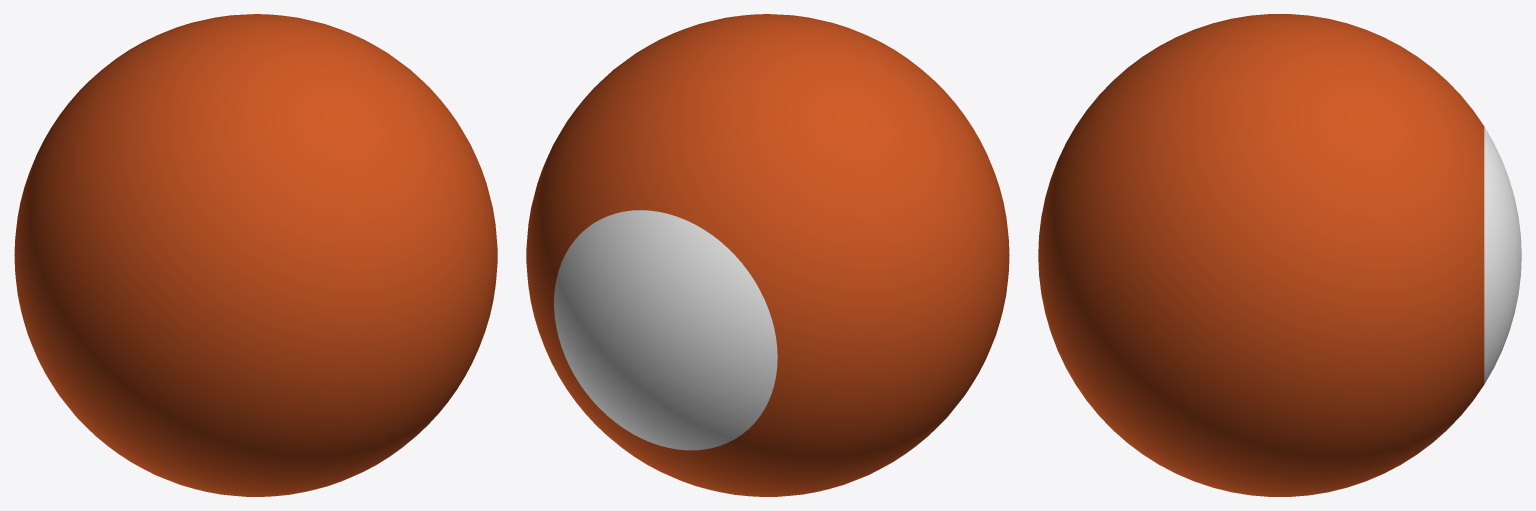
The model's file is 5Ball.dae.
3 renders of one model, left to right at view 1: azimuth 30°, elevation 25°; view 2: azimuth 150°, elevation 25°; view 3: azimuth 270°, elevation 25°, orthographic.
Bounding box in the file's own units: 0.0571 × 0.0572 × 0.0571.
